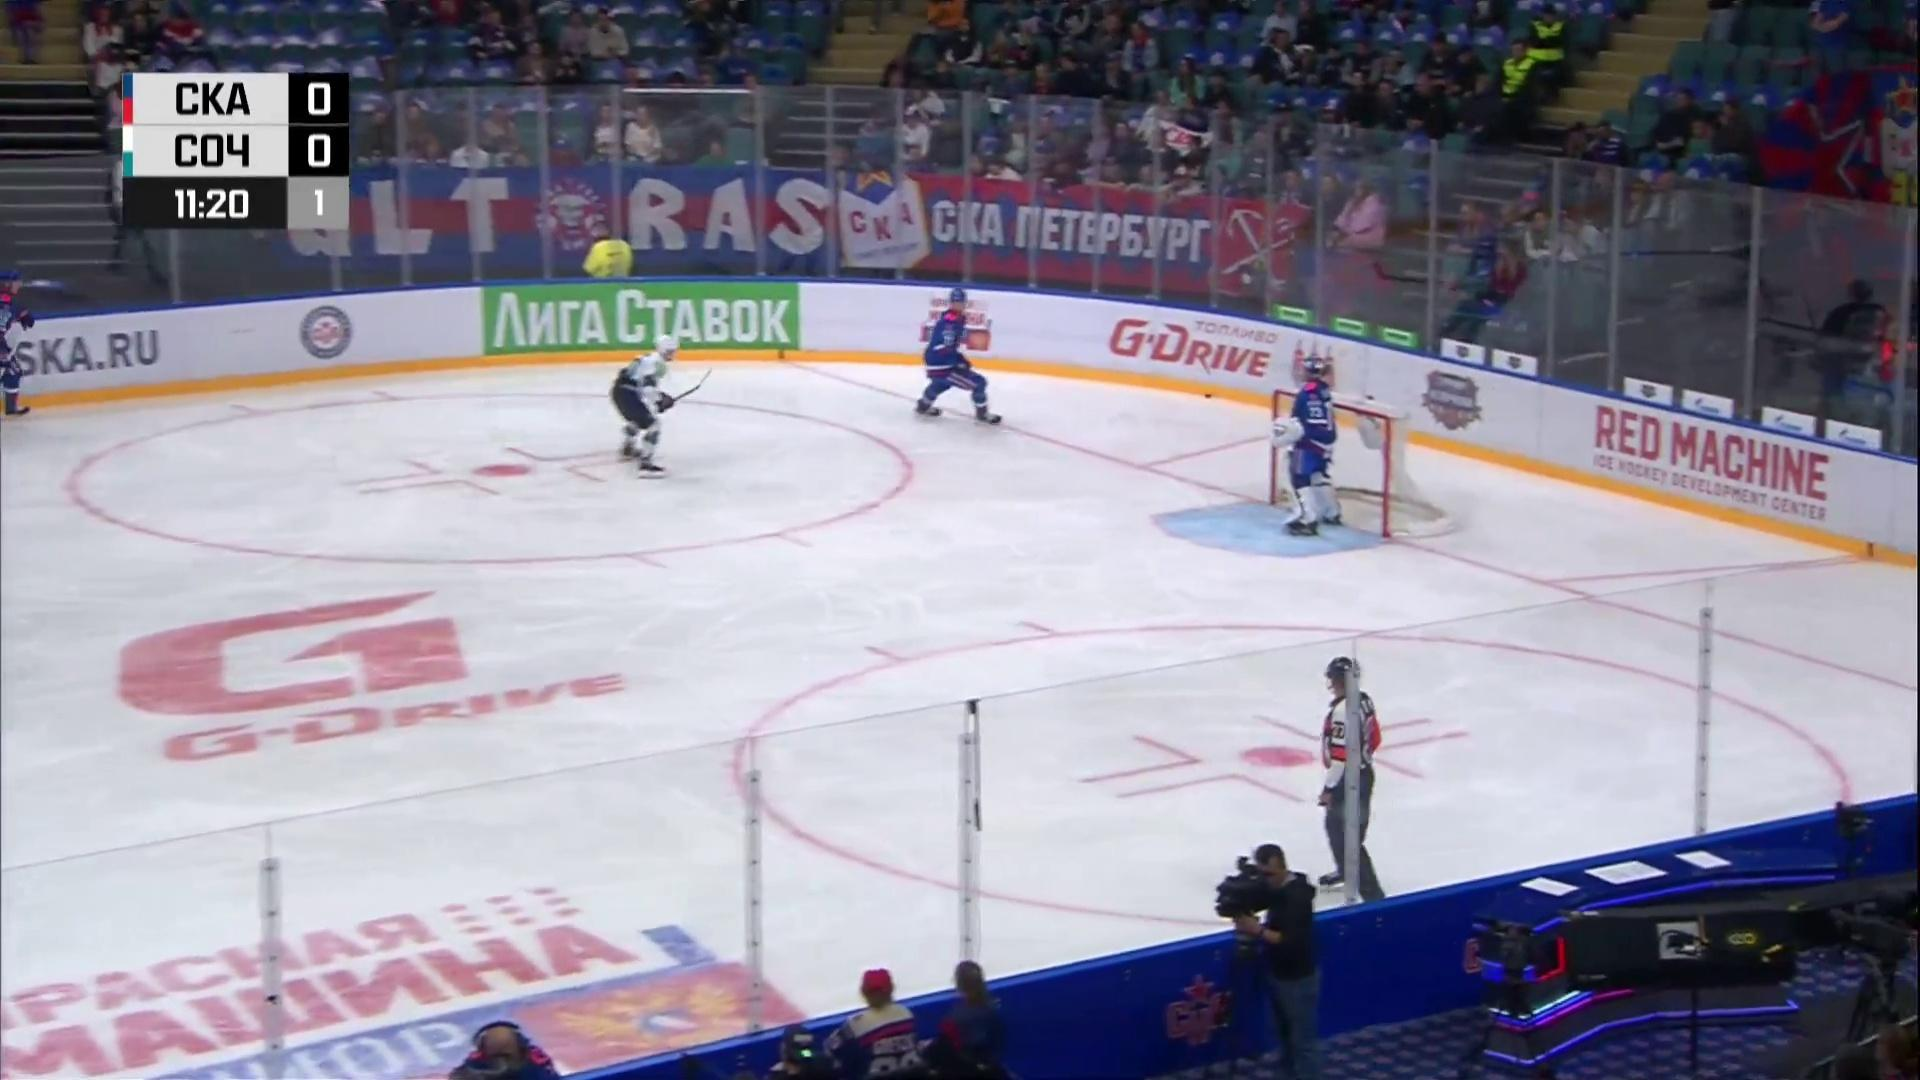ball: (1204, 394, 1213, 399)
